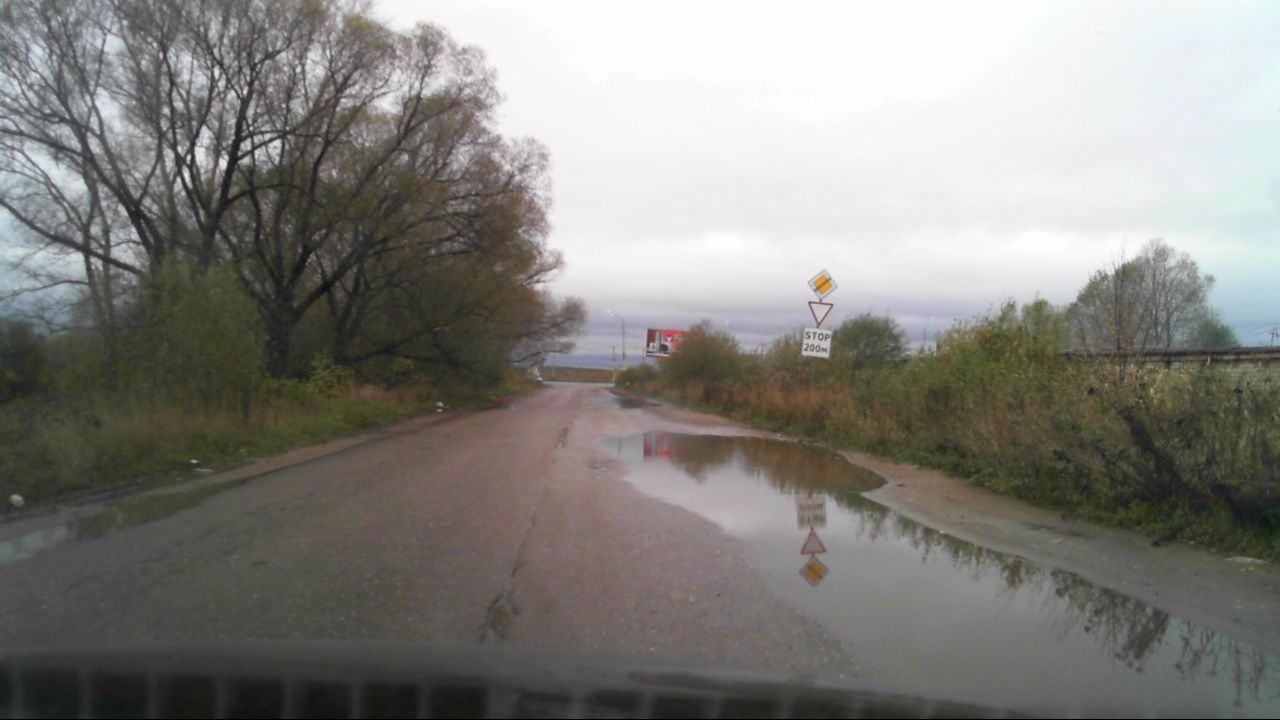main road: (806, 267, 837, 300)
